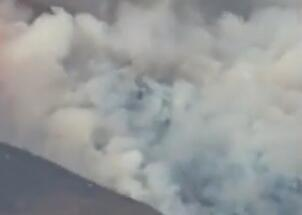yanwu: (1, 1, 301, 210)
